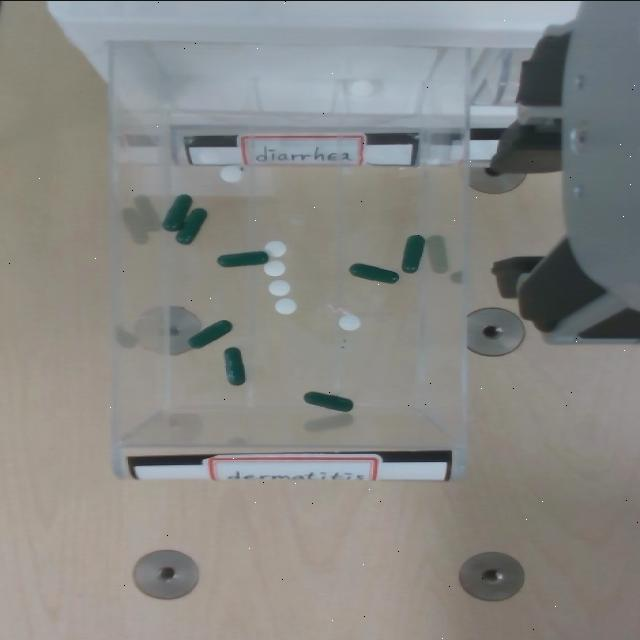ganakan_tab: (273, 296, 298, 315), (220, 164, 243, 182), (338, 314, 362, 331), (264, 240, 287, 256), (269, 279, 291, 295), (264, 259, 285, 275)
monodoxy_cap: (186, 319, 232, 348), (174, 206, 208, 244), (161, 193, 193, 232), (188, 320, 231, 348), (348, 262, 400, 284), (176, 208, 207, 244), (162, 194, 192, 231), (302, 390, 354, 411), (400, 234, 426, 273), (349, 263, 399, 283), (304, 392, 353, 412), (222, 347, 247, 385), (215, 249, 269, 266), (402, 235, 425, 273), (217, 250, 268, 267), (223, 348, 245, 384)
